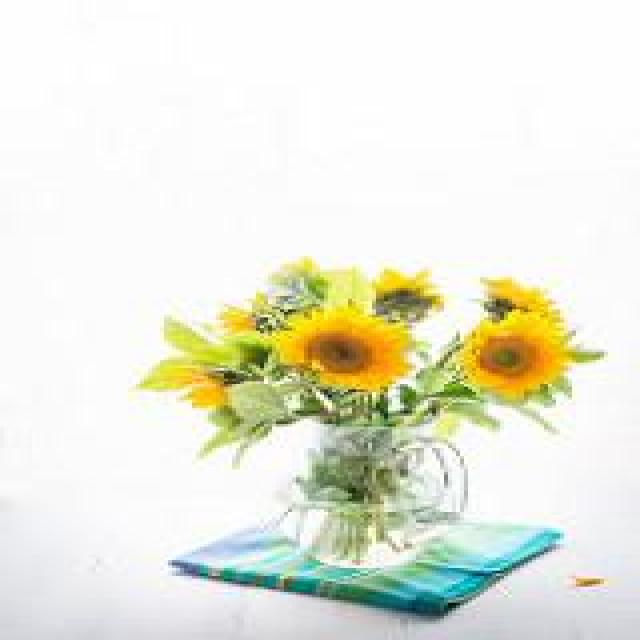sunflower: (462, 308, 570, 407), (270, 314, 418, 386), (362, 265, 446, 319), (482, 274, 562, 322)
